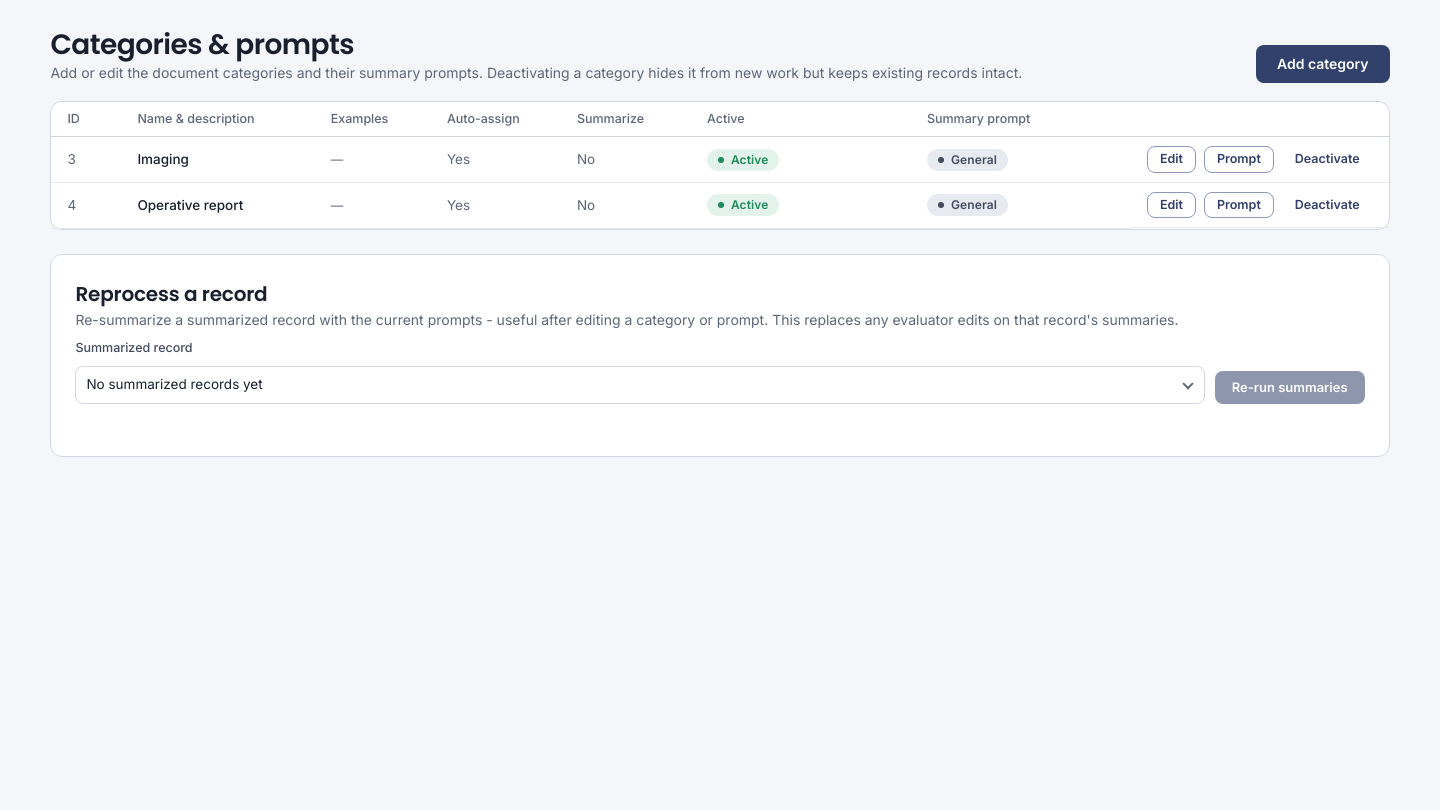
Test: AdminView category editing › opens the prompt editor for the category whose row was used
Click the button "Prompt" in the row of "Operative report". click: (1239, 205)
box: [1204,192,1274,218]
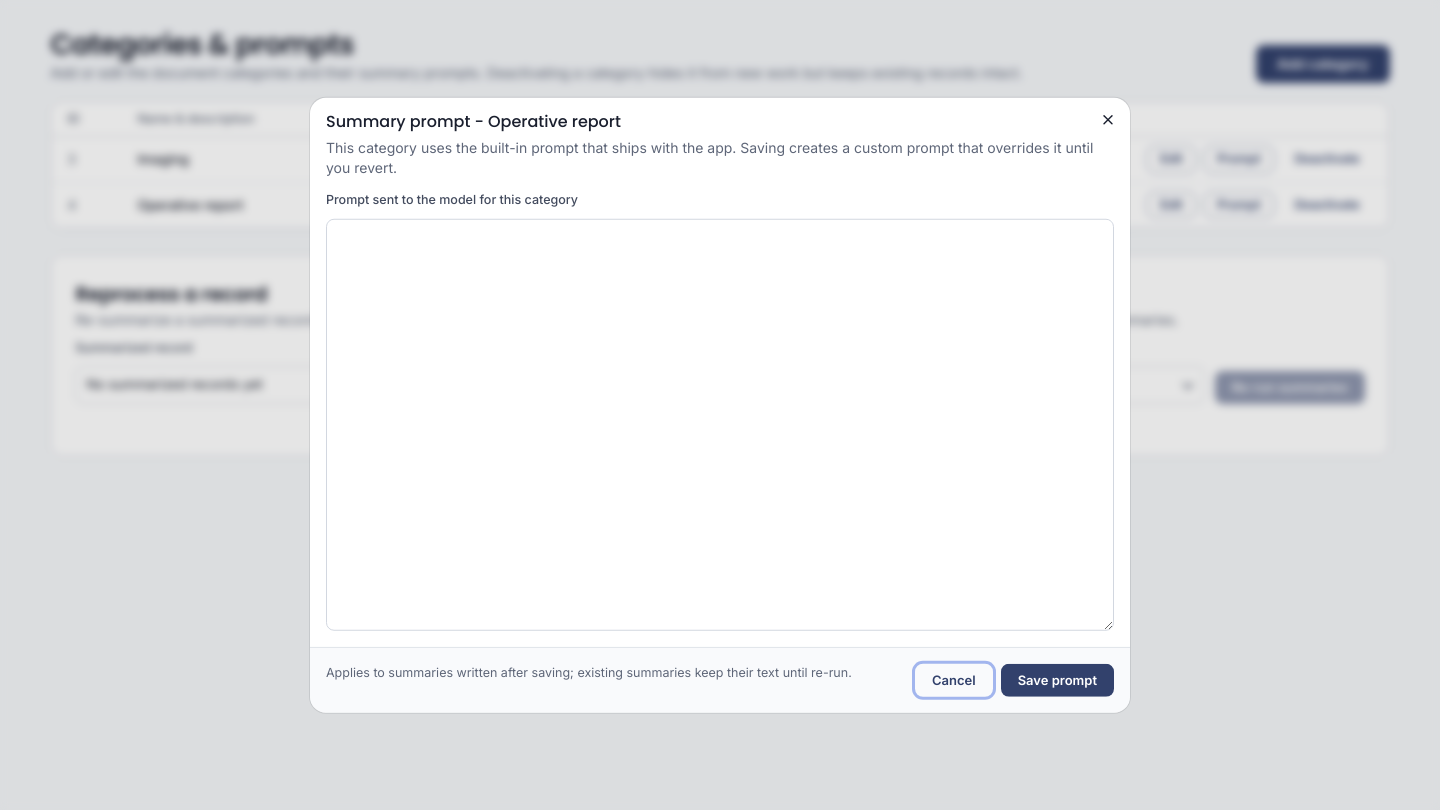
Result: the heading "Summary prompt - Operative report" is shown at [326,110,621,133]
